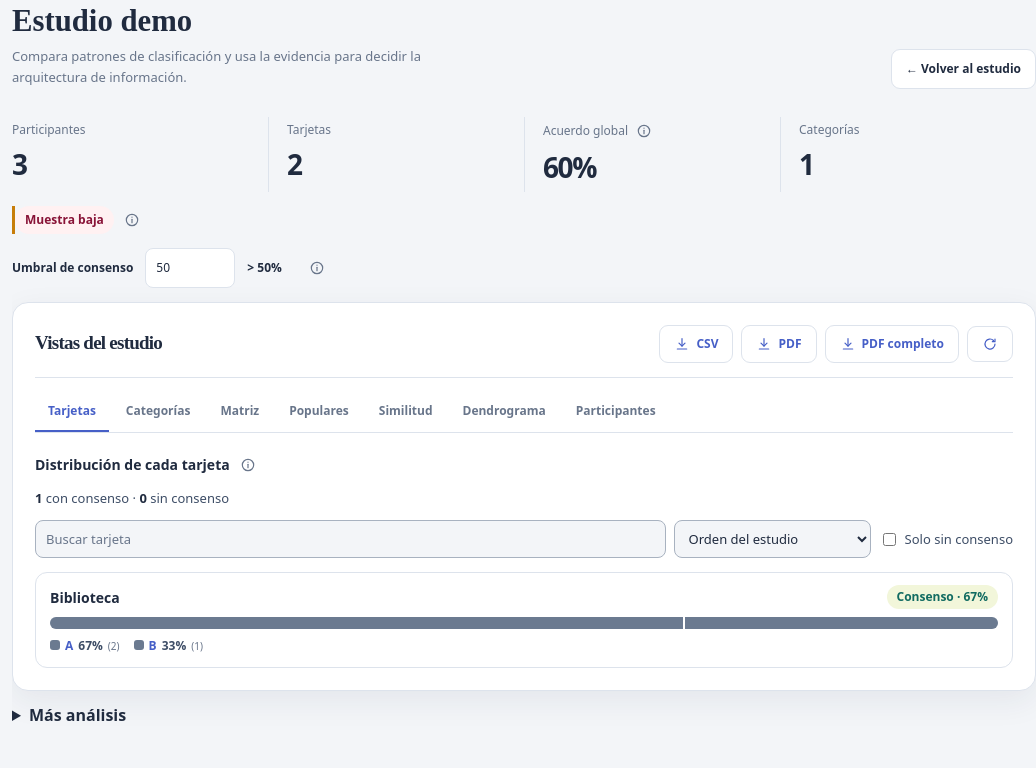
Scenario: CardSortingResultsPage · respuestas del participante › umbral de consenso editable: recalcula la vista y se puede restablecer
Expected: the text "1 con consenso · 0 sin consenso" is shown, top-left (35, 489), bottom-right (229, 507)
Expected: the button "Restablecer" is not shown
Replace the text in the number field labelled "Umbral de consenso" with "70" at (190, 268), box top-left (145, 248), bottom-right (235, 288)
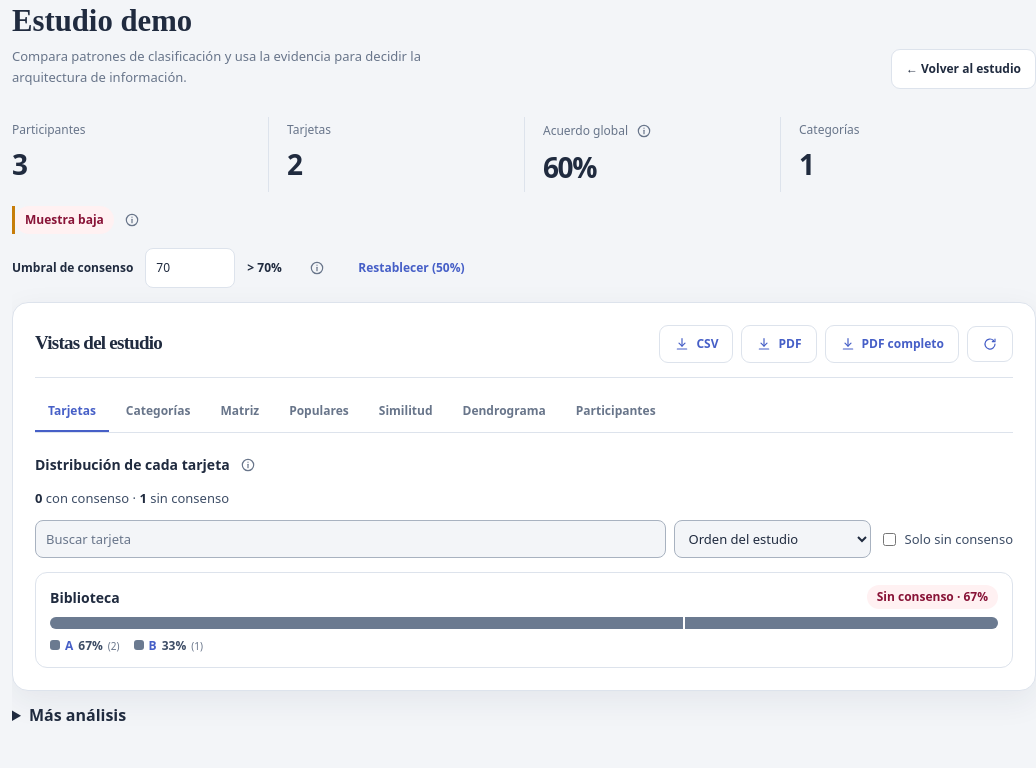
Result: the text "0 con consenso · 1 sin consenso" is shown at top-left (35, 489), bottom-right (229, 507)
Click the button "Restablecer (50%)" at (411, 268), box top-left (343, 248), bottom-right (480, 288)
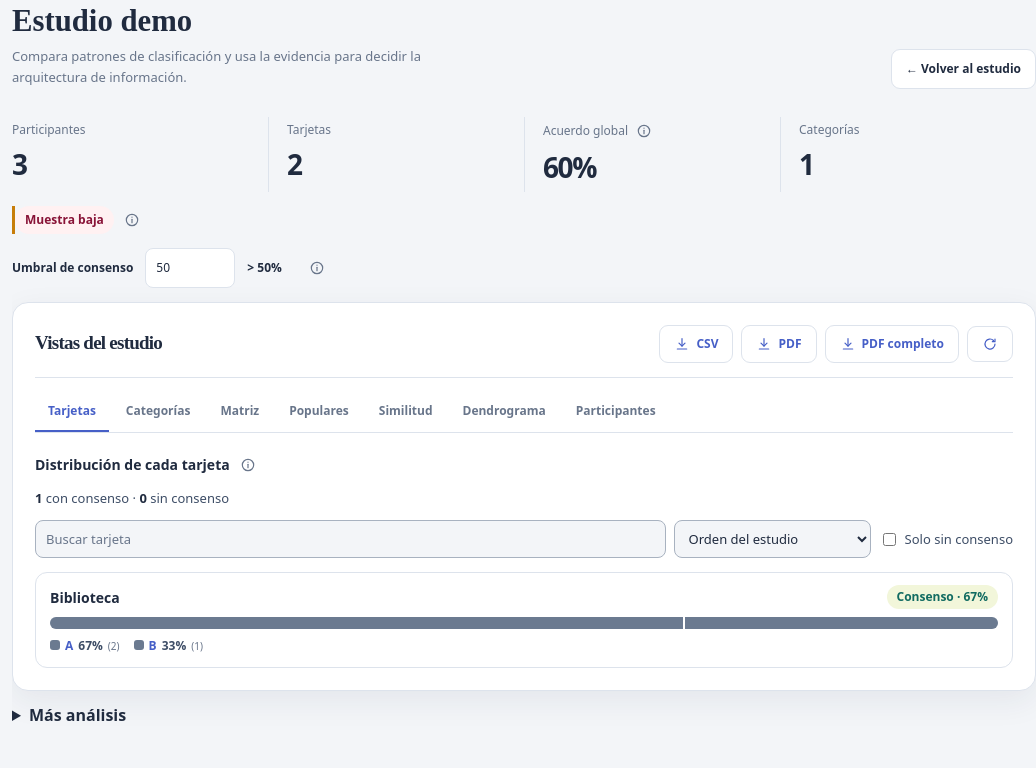
Result: the text "1 con consenso · 0 sin consenso" is shown at top-left (35, 489), bottom-right (229, 507)
